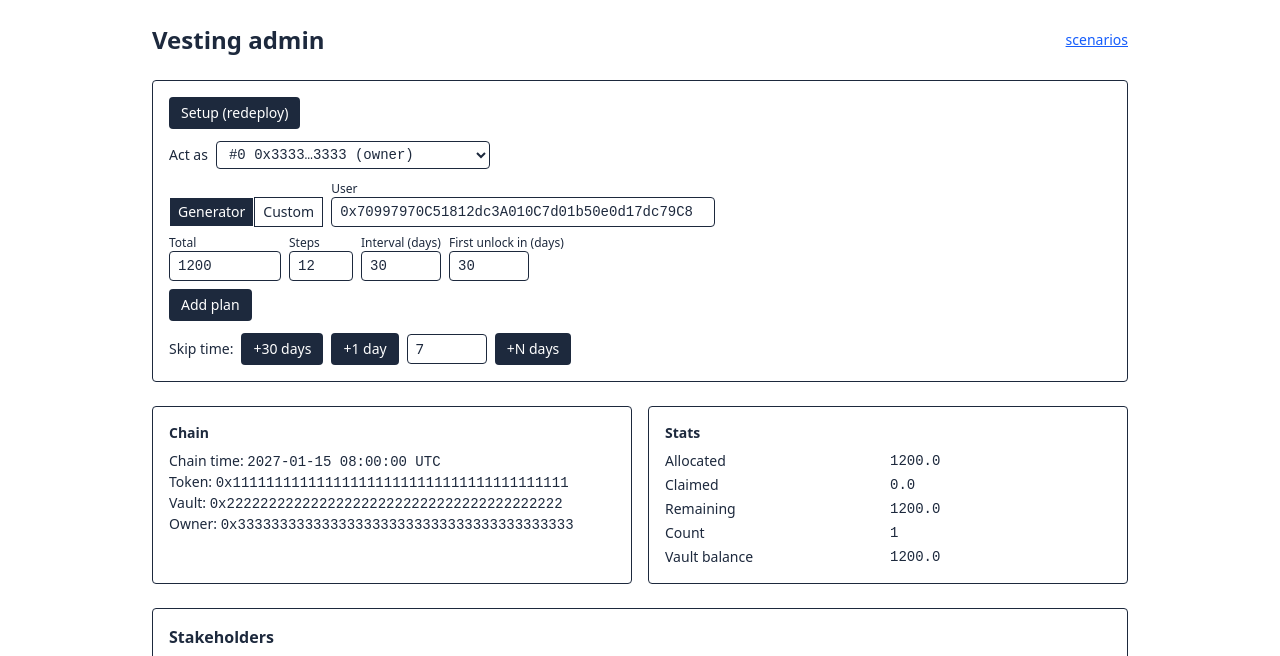
Test: AdminPage: Act as and row actions (PLAN 05) › the Act-as value reaches the write and the preview
Expected: the button "Add plan" is enabled, [169,289,252,321]
Select "#3 0x90F7…b906" in the dropdown labelled "Act as" at (353, 155), box [216,141,490,169]
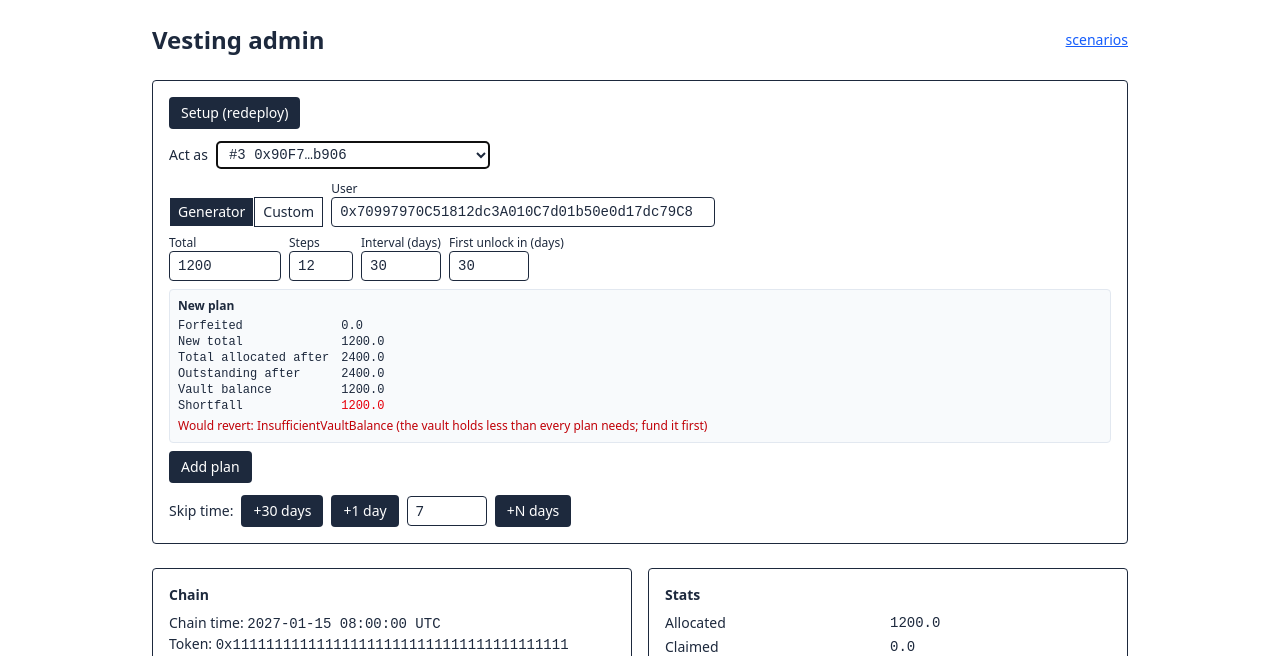
Click the button "Add plan" at (210, 467), box [169,451,252,483]
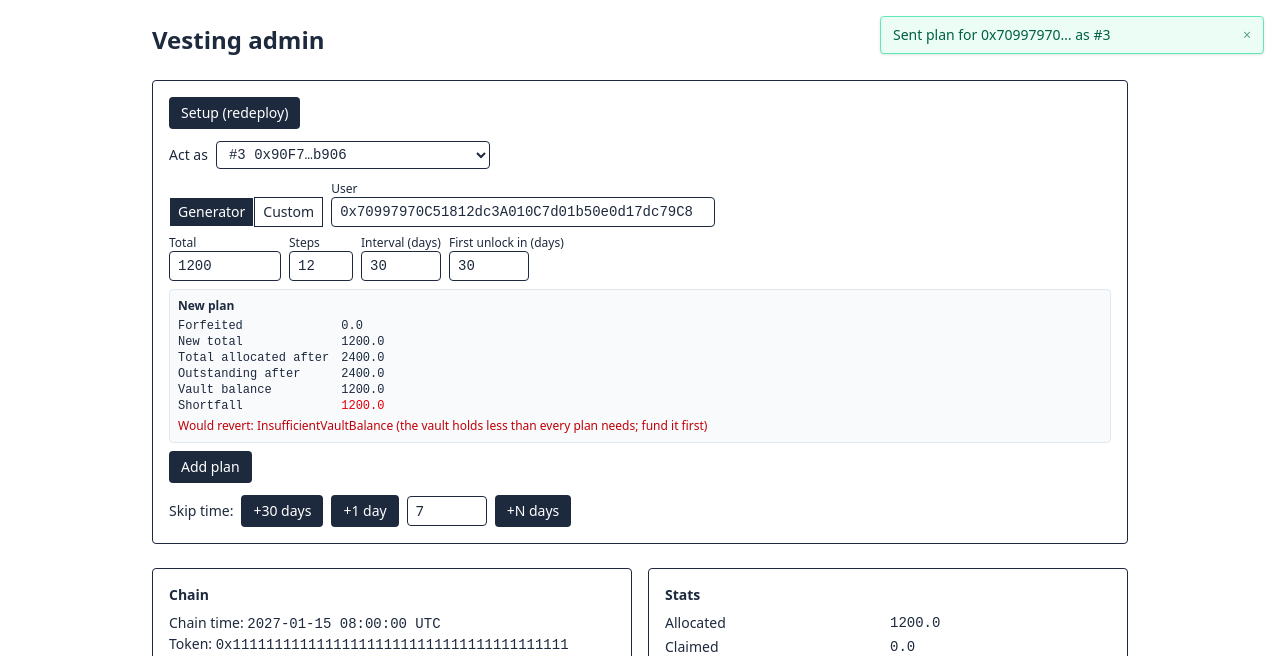
Expected: the text "Sent plan for 0x70997970… as #3" is shown, [893,25,1110,45]
